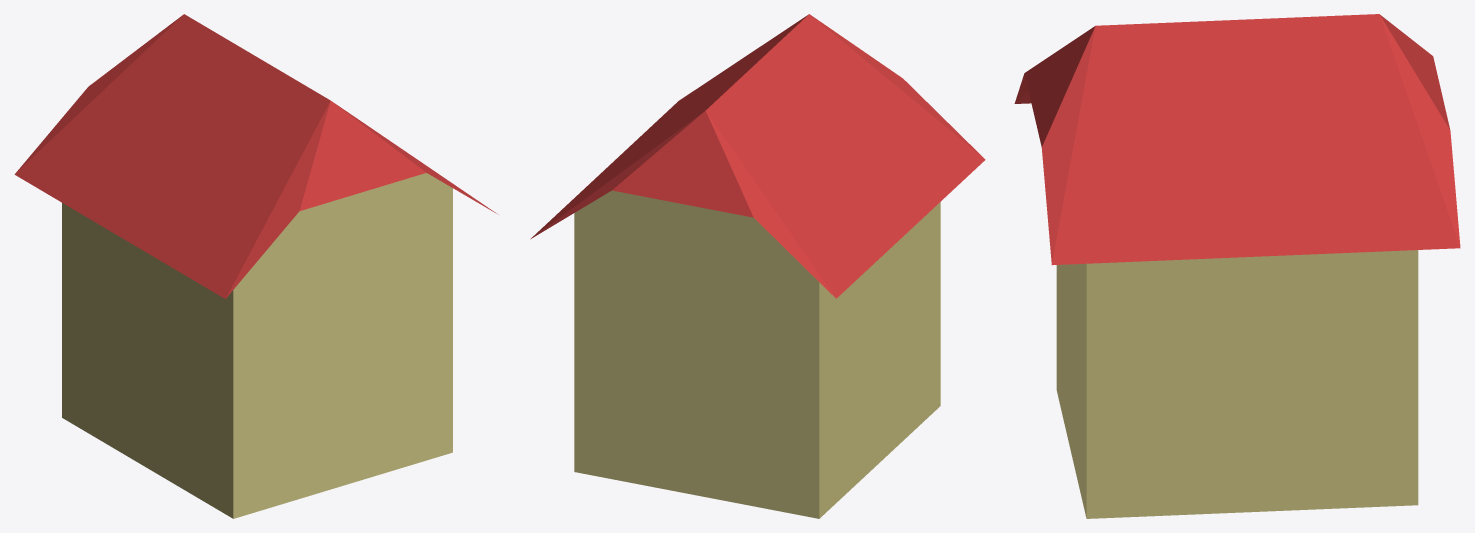
3 views of the same model, side by side, from view 1: azimuth 30°, elevation 25°; view 2: azimuth 150°, elevation 25°; view 3: azimuth 270°, elevation 25° (orthographic). The views are drawn at different scales.
Visible parts, largest first — view 1: group_5, group_3, group_4; view 2: group_5, group_3, group_4; view 3: group_5, group_3, group_4.
Boxes of the visible parts, x1,y1,x2,y2 form: group_5: [62, 173, 452, 518]; group_3: [15, 14, 498, 298]; group_4: [15, 42, 426, 297]; group_5: [574, 63, 940, 518]; group_3: [530, 14, 985, 298]; group_4: [531, 39, 984, 297]; group_5: [1056, 250, 1418, 518]; group_3: [1014, 14, 1460, 264]; group_4: [1015, 30, 1459, 264].
Bounding box in the file's own units: 10.87 × 11.52 × 12.19.
